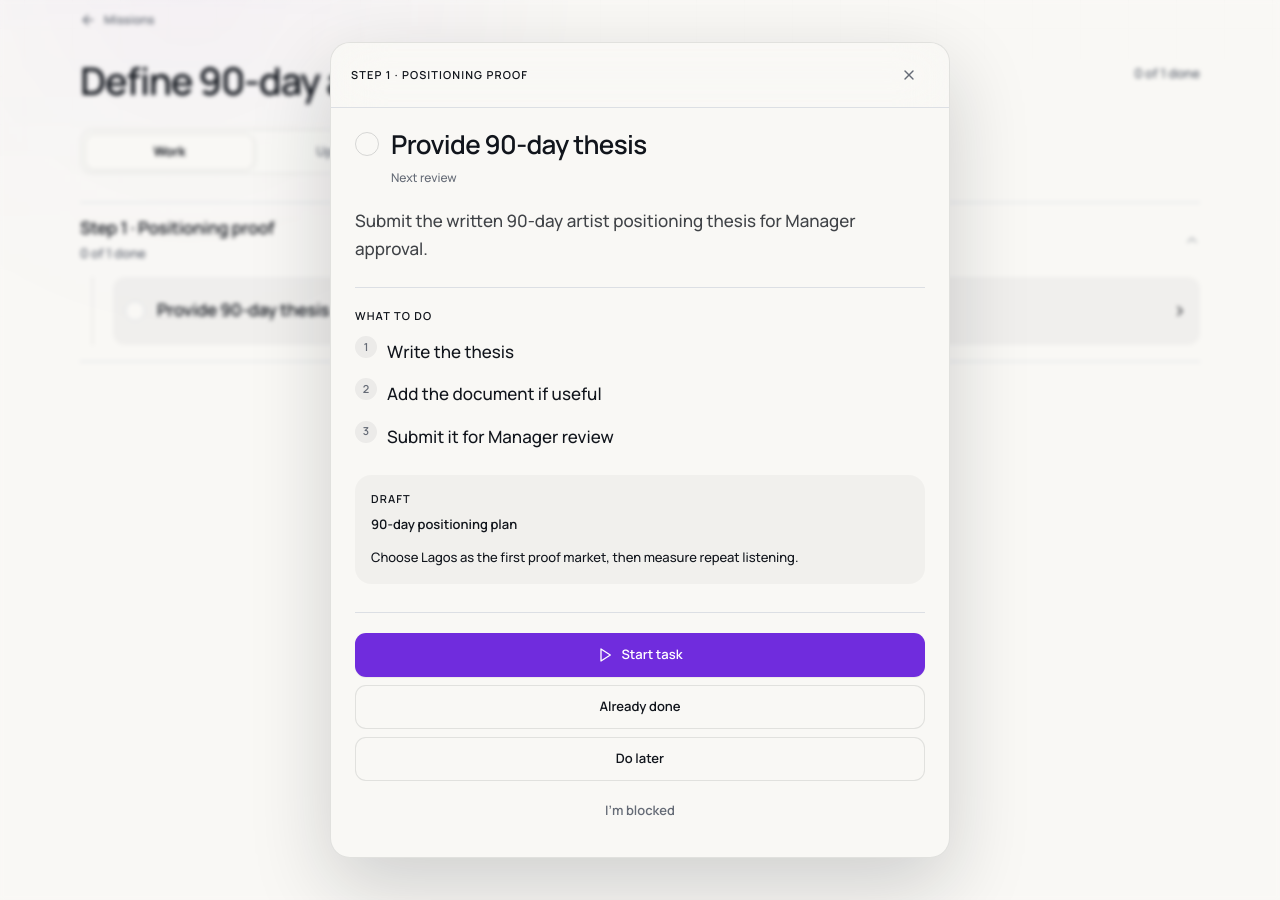
mission task execution › keeps a failed review attached to the exact task and retryable
Step 1. Click the button "Already done" → [640, 707], box [355,685,925,729]
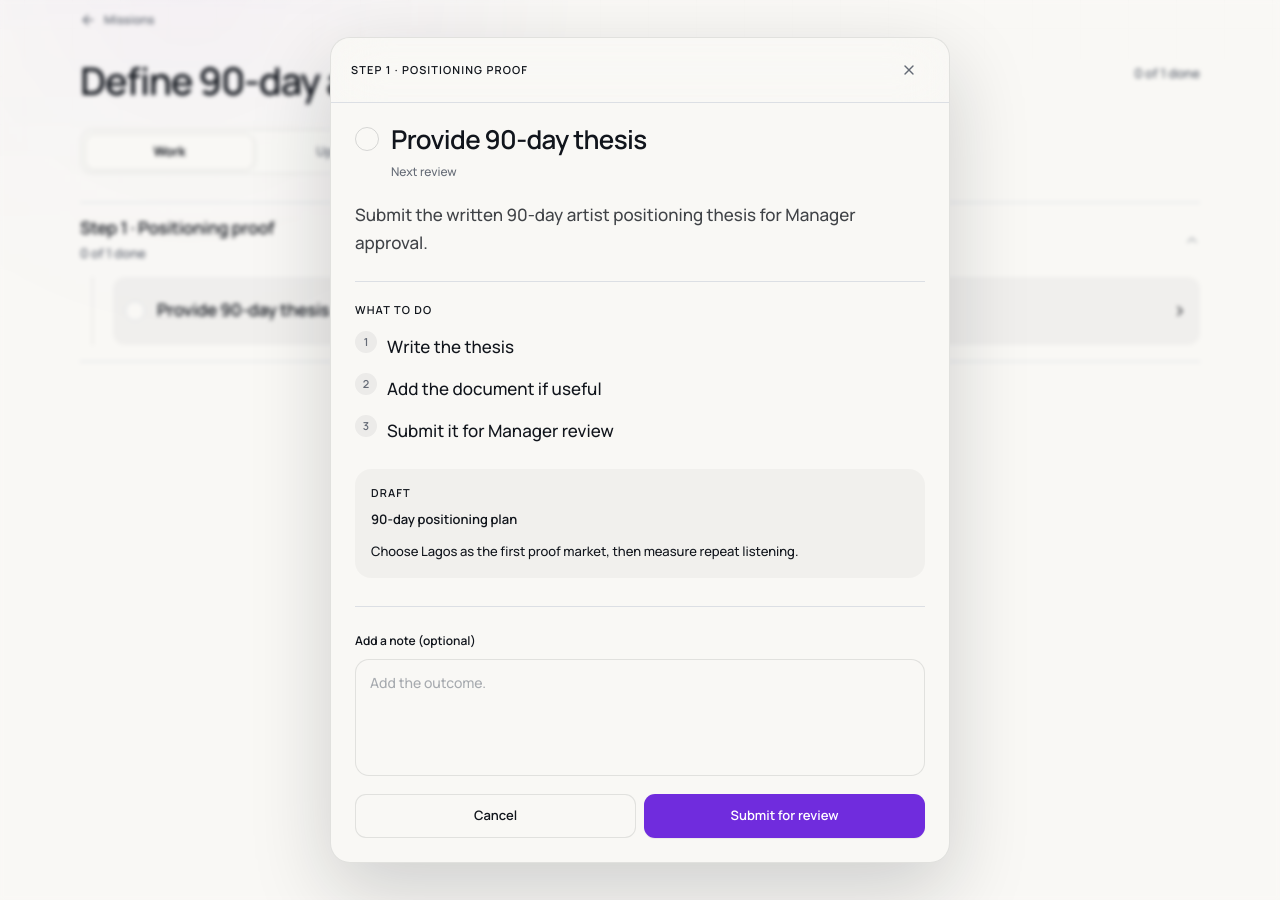
Step 2. Click the button "Submit for review" → [784, 816], box [644,794,925,838]
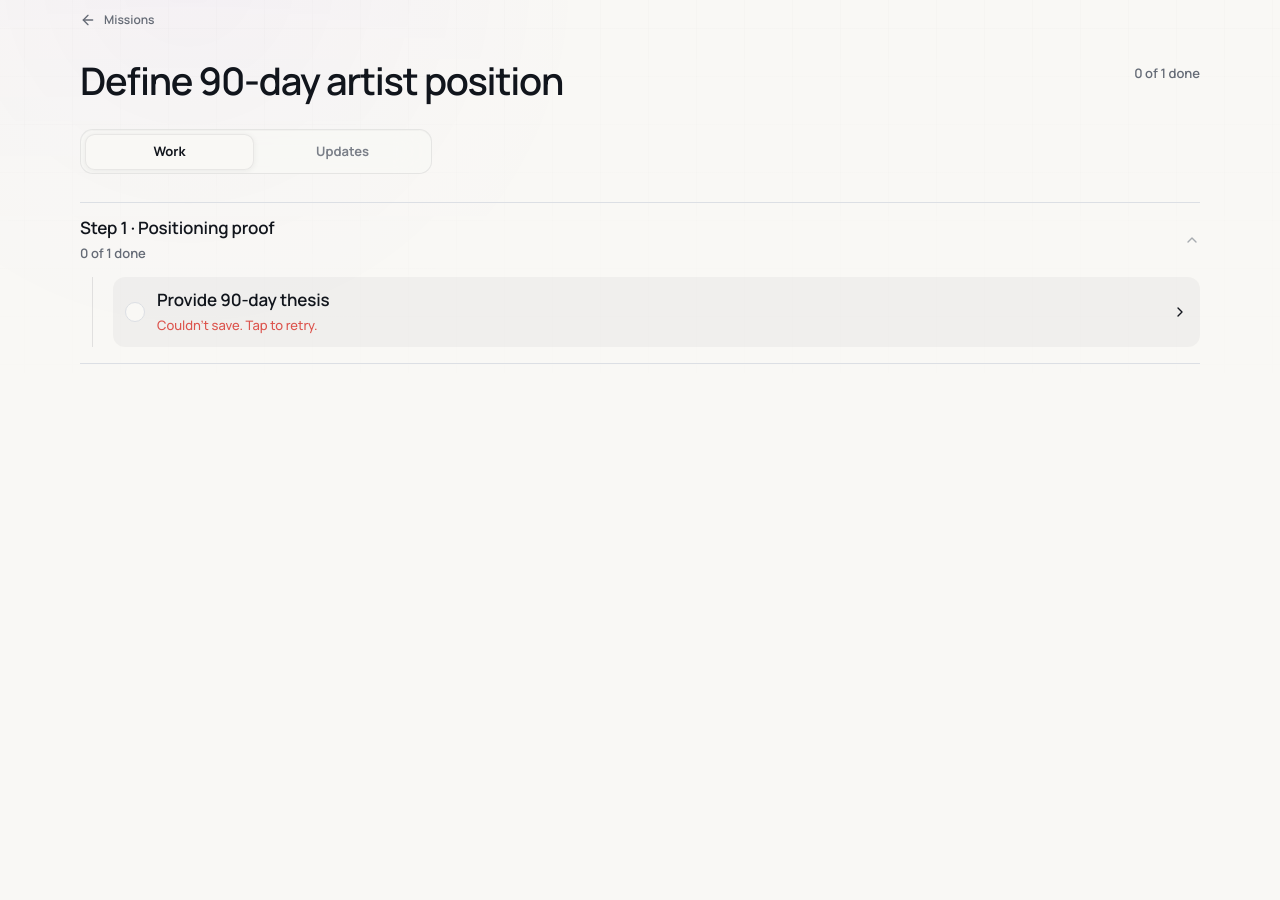
Now the text "Couldn’t save. Tap to retry." is shown, box [157,316,318,334]
Step 3. Click the button "Provide 90-day thesis Couldn’t save. Tap to retry." → [243, 299], box [113,277,1200,347]
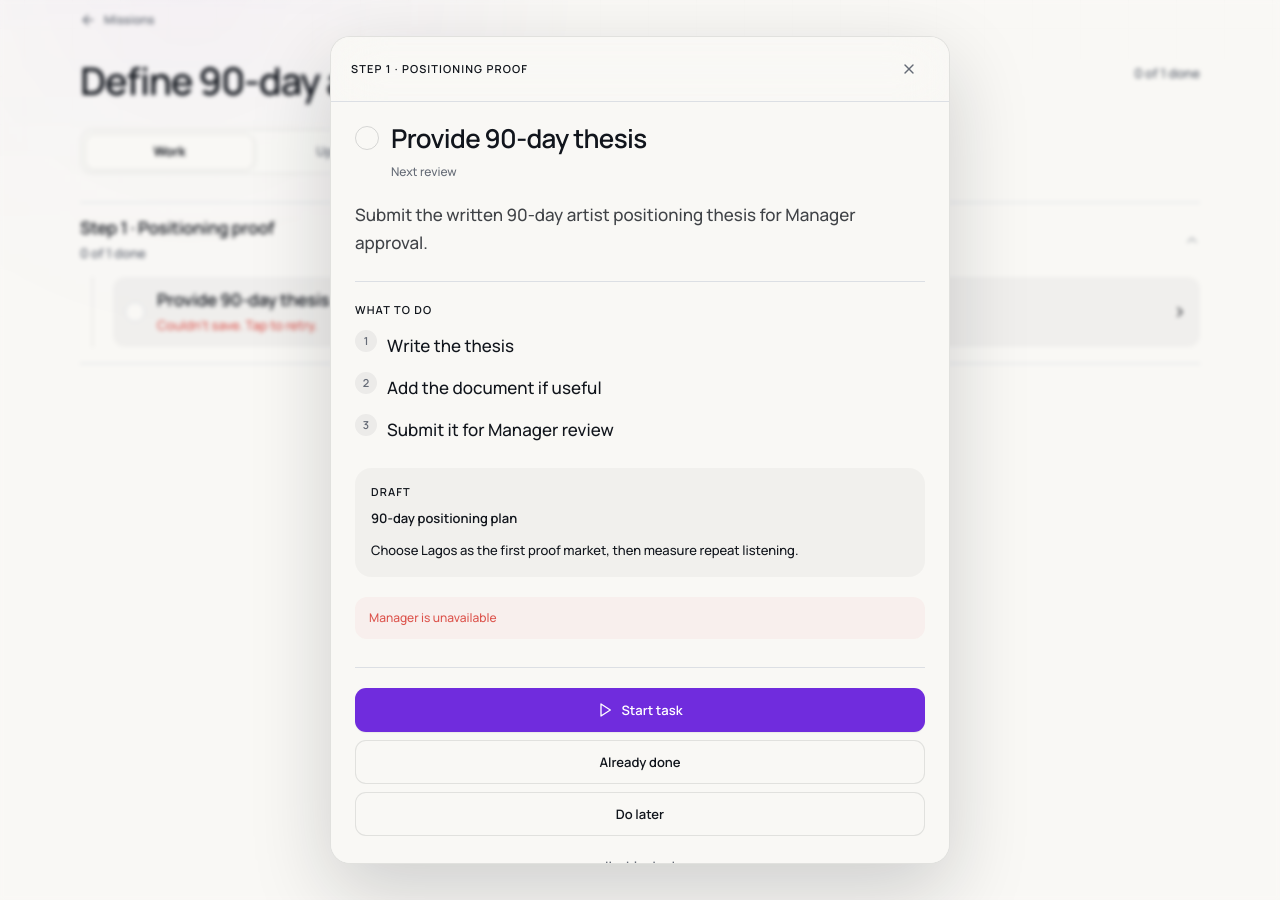
Now the message reads "Manager is unavailable", box [369,609,496,626]
Now the button "Already done" is enabled, box [355,740,925,784]
